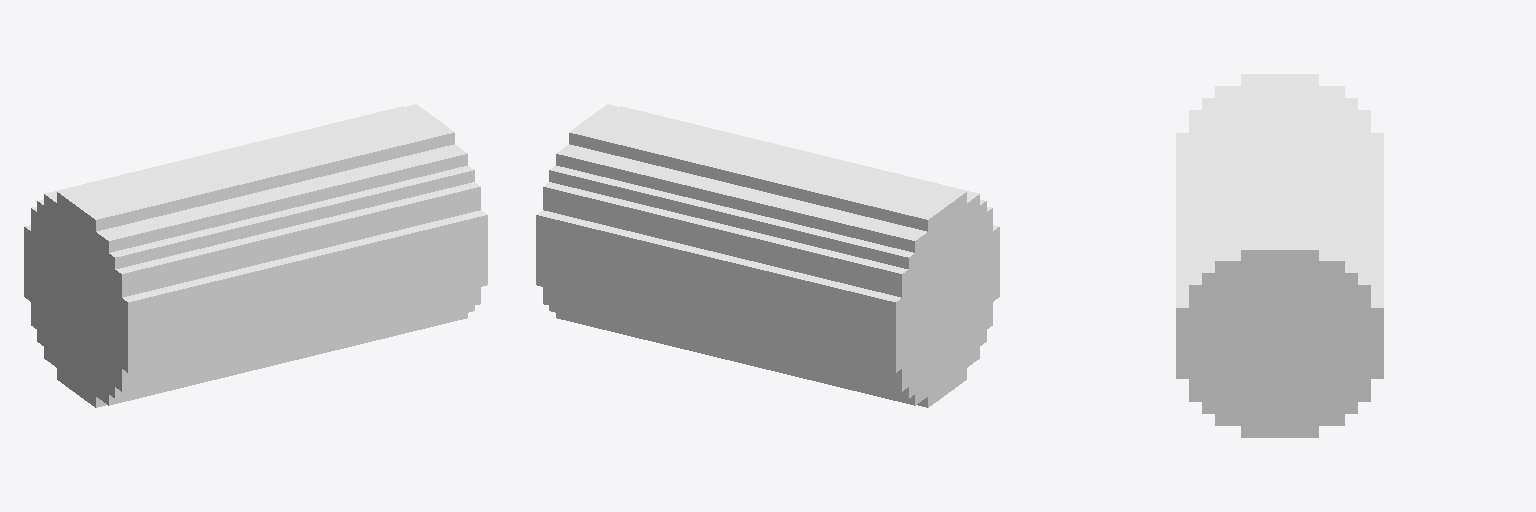
File: log_2.obj
The picture shows the model from 3 angles: view 1: azimuth 30°, elevation 25°; view 2: azimuth 150°, elevation 25°; view 3: azimuth 270°, elevation 25°; orthographic projection.
Parts seen in each view (by area): view 1: object 1; view 2: object 1; view 3: object 1.
Boxes of the visible parts, box(x1,y1,x2,y2) form: object 1: box(24, 104, 487, 407); object 1: box(536, 104, 999, 407); object 1: box(1176, 74, 1383, 437).
Bounding box in the file's own units: 3.2 × 1.6 × 1.6.